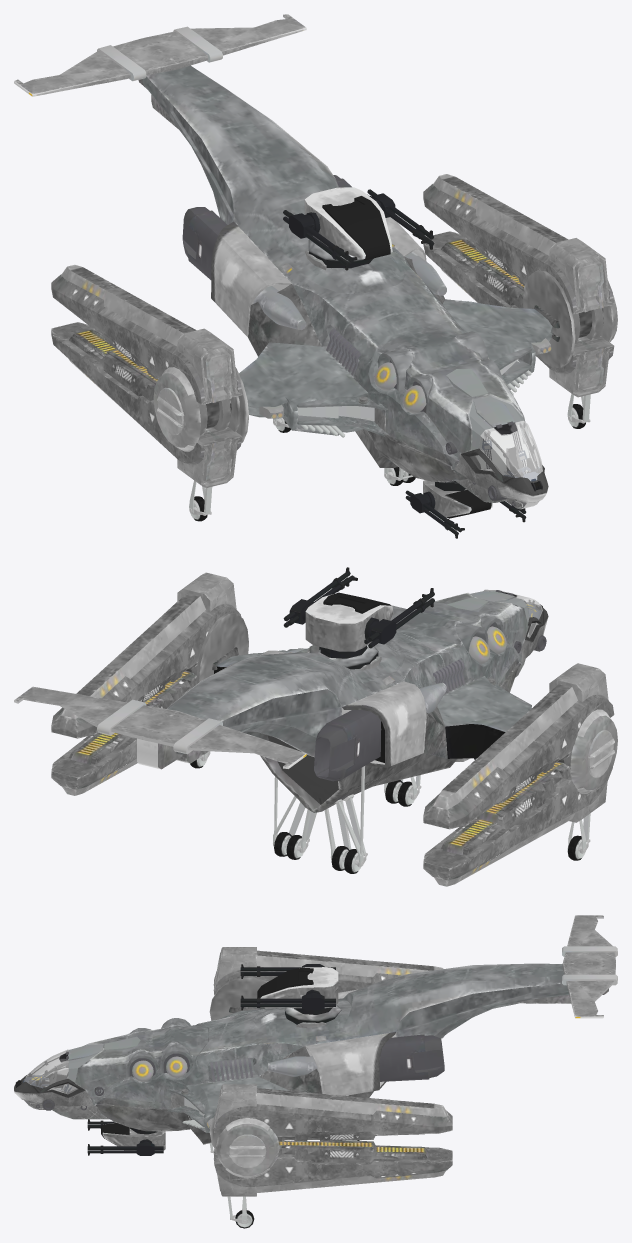
File: ship_hayalet.glb
3 views of the same model, one above another, from view 1: azimuth 30°, elevation 25°; view 2: azimuth 150°, elevation 25°; view 3: azimuth 270°, elevation 25° (orthographic). The views are drawn at different scales.
Visible parts, largest first — view 1: Object_3, Object_5, Object_2; view 2: Object_3, Object_2; view 3: Object_3, Object_5, Object_2.
Boxes of the visible parts, left/top/right/bottom form: Object_3: left=14, top=14, right=617, bottom=538; Object_5: left=470, top=420, right=542, bottom=480; Object_2: left=189, top=359, right=583, bottom=515; Object_3: left=14, top=567, right=617, bottom=886; Object_2: left=200, top=592, right=590, bottom=866; Object_3: left=14, top=915, right=617, bottom=1228; Object_5: left=24, top=1049, right=77, bottom=1093; Object_2: left=35, top=1035, right=352, bottom=1223.
Size of the model in its own units: 6.02 by 3.38 by 9.49.
Materials: 2 (2 with a texture image).
